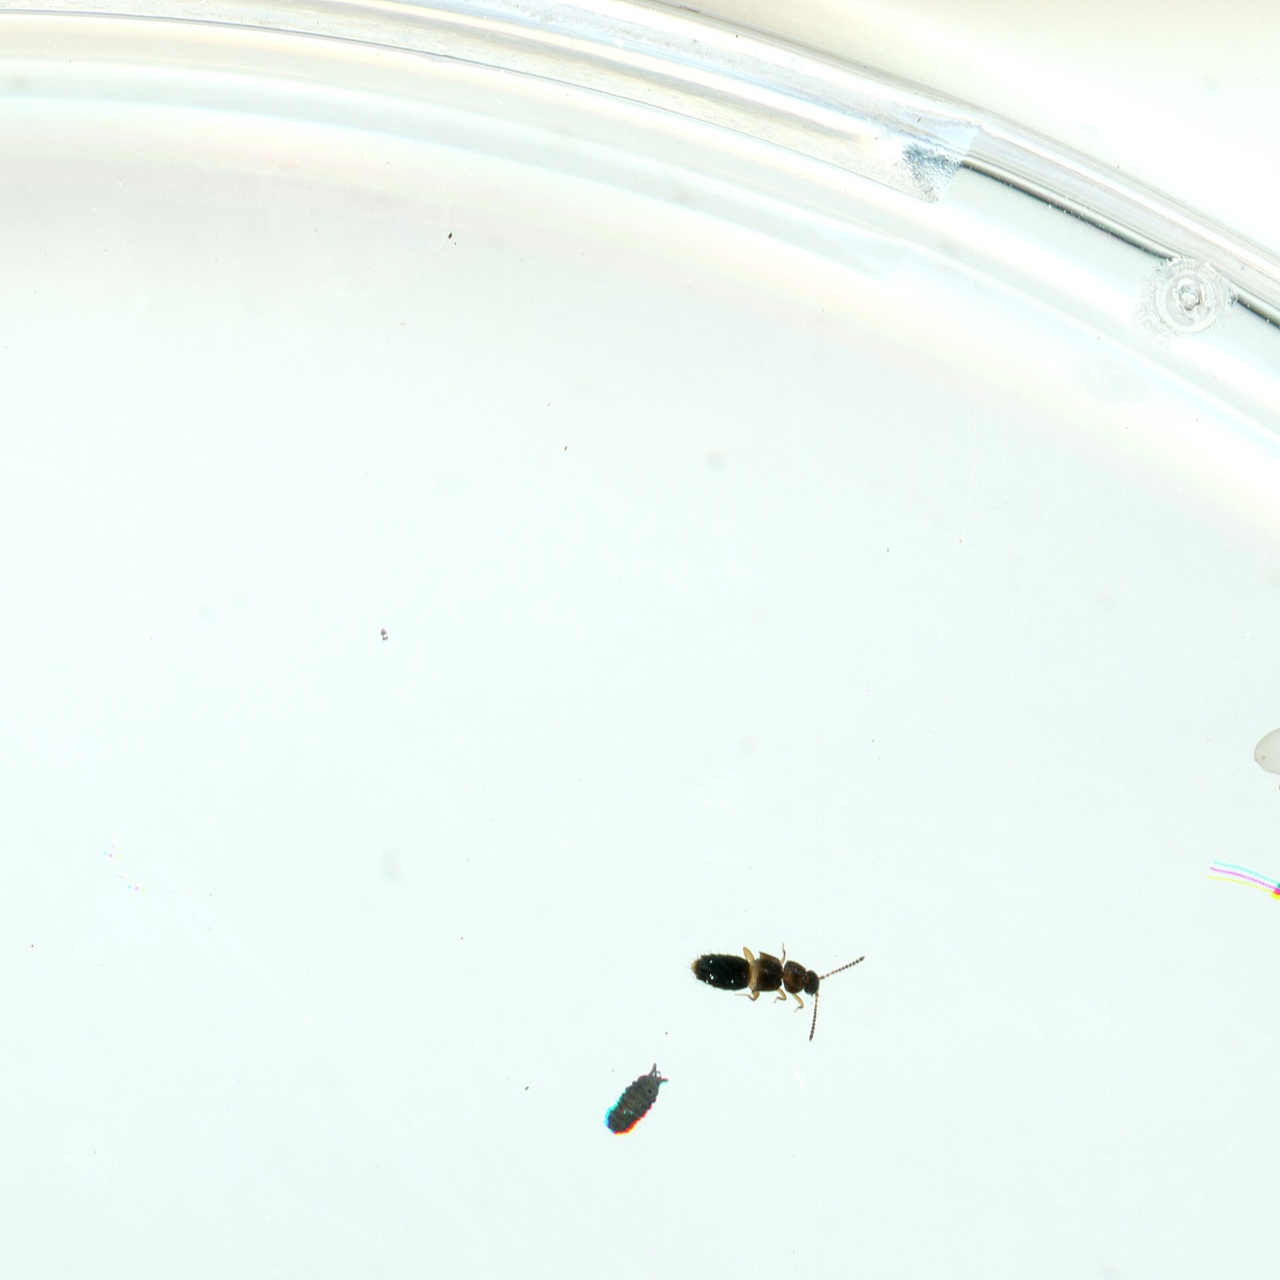arthropod: (693, 946, 866, 1044), (1207, 845, 1280, 954), (601, 1061, 672, 1137)
